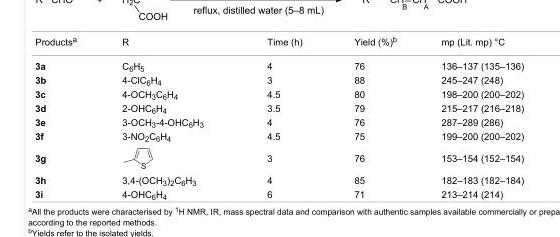table: (34, 34, 523, 200)
table column: (98, 34, 234, 200), (418, 34, 523, 200), (234, 34, 327, 200), (327, 34, 418, 200), (34, 34, 98, 200)
table row: (34, 147, 523, 168), (34, 53, 523, 73), (34, 34, 523, 53), (34, 168, 523, 187), (34, 129, 523, 147), (34, 73, 523, 87), (34, 87, 523, 101), (34, 101, 523, 115), (34, 115, 523, 129), (34, 187, 523, 200)
